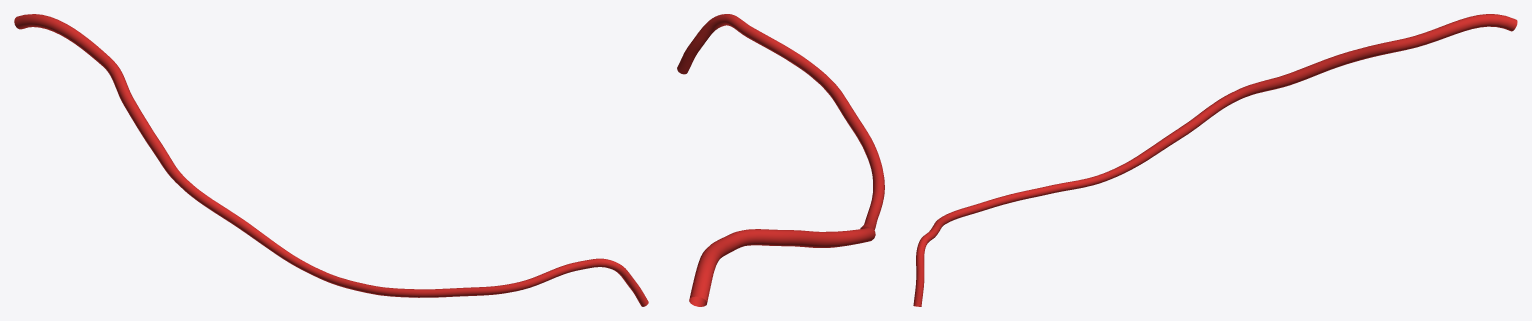
File: circulatorio-transverse-facial-artery-r.glb
The picture shows the model from 3 angles, left to right: view 1: azimuth 30°, elevation 25°; view 2: azimuth 150°, elevation 25°; view 3: azimuth 270°, elevation 25°; orthographic projection. The views are drawn at different scales.
Visible parts, largest first — view 1: Transverse facial artery.r; view 2: Transverse facial artery.r; view 3: Transverse facial artery.r.
Part boxes in pixels (bbox=[...]): Transverse facial artery.r: bbox=[14, 14, 648, 306]; Transverse facial artery.r: bbox=[677, 14, 884, 306]; Transverse facial artery.r: bbox=[913, 14, 1517, 306].
Size of the model in its own units: 0.0444 by 0.0197 by 0.0731.
